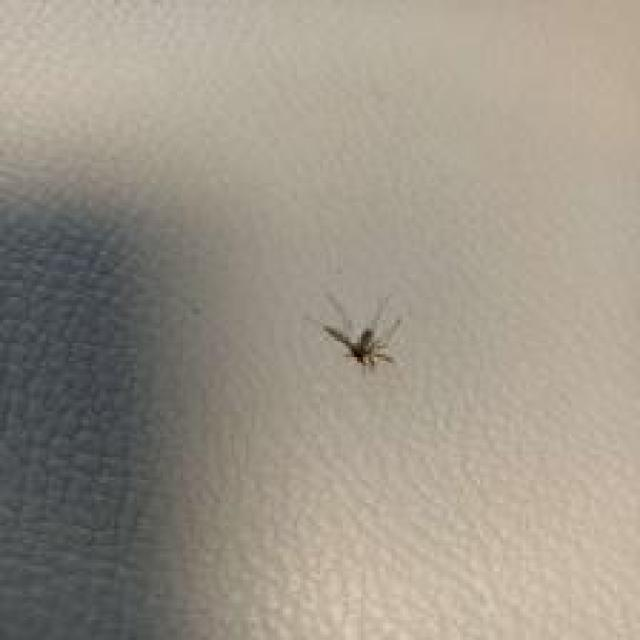Culex: (314, 290, 403, 373)
